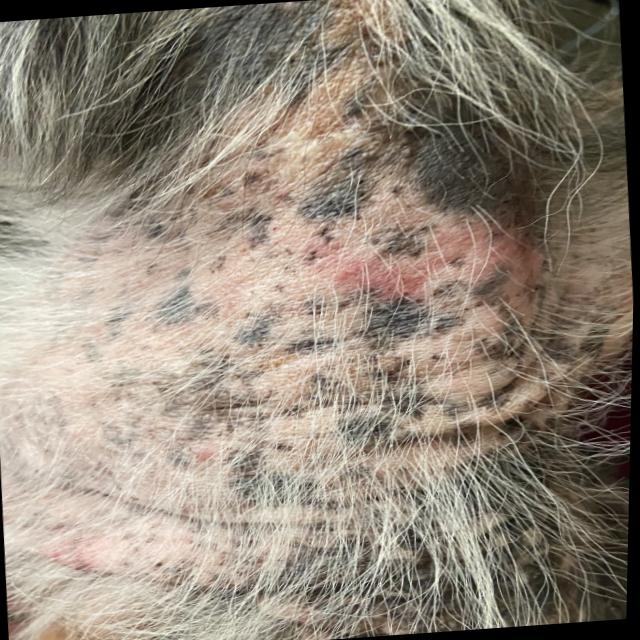demodicosis: (132, 152, 519, 507)
